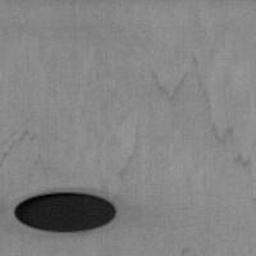Punching: (15, 192, 115, 232)
